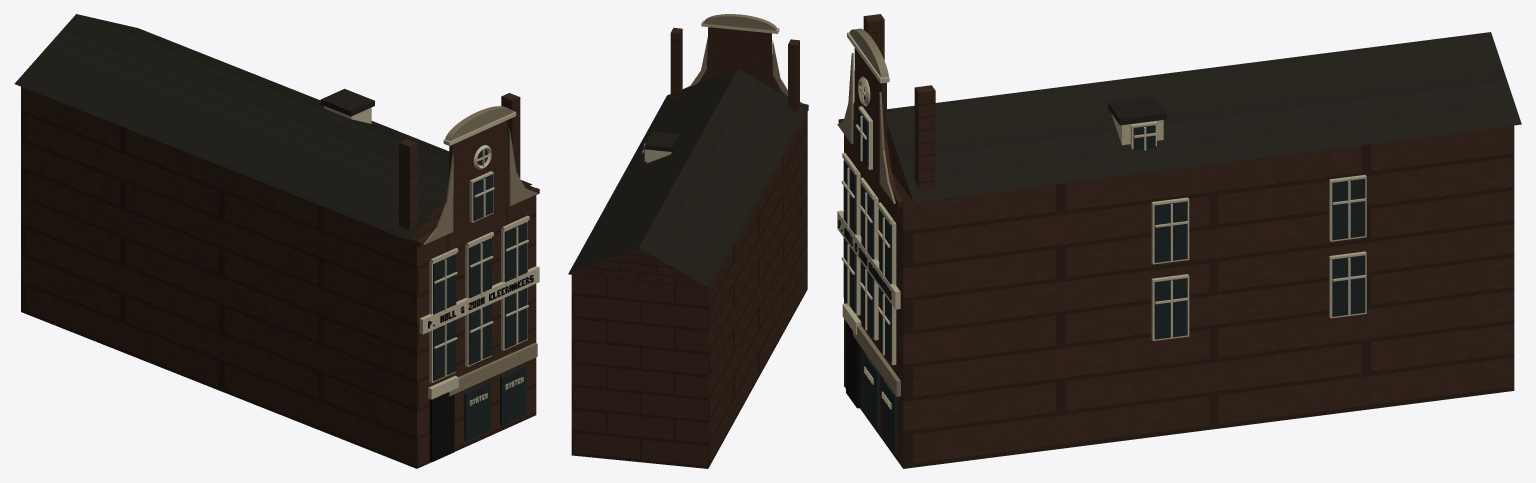
3 views of the same model, side by side, from view 1: azimuth 30°, elevation 25°; view 2: azimuth 150°, elevation 25°; view 3: azimuth 270°, elevation 25° (orthographic). The views are drawn at different scales.
Parts seen in each view (by area): view 1: wijnhaven145-moll-0, wijnhaven145-moll-1, wijnhaven145-moll-4, wijnhaven145-moll-2, wijnhaven145-moll-3, wijnhaven145-moll-5; view 2: wijnhaven145-moll-0, wijnhaven145-moll-1, wijnhaven145-moll-3, wijnhaven145-moll-2; view 3: wijnhaven145-moll-0, wijnhaven145-moll-1, wijnhaven145-moll-4, wijnhaven145-moll-2, wijnhaven145-moll-3, wijnhaven145-moll-5.
Boxes of the visible parts, x1,y1,x2,y2 form: wijnhaven145-moll-0: (21,87,539,468); wijnhaven145-moll-1: (14,14,530,239); wijnhaven145-moll-4: (433,149,527,441); wijnhaven145-moll-2: (324,106,539,405); wijnhaven145-moll-3: (423,106,538,396); wijnhaven145-moll-5: (428,274,533,461); wijnhaven145-moll-0: (568,27,808,468); wijnhaven145-moll-1: (568,68,808,287); wijnhaven145-moll-3: (683,14,802,103); wijnhaven145-moll-2: (642,20,779,163); wijnhaven145-moll-0: (838,14,1514,468); wijnhaven145-moll-1: (887,32,1521,201); wijnhaven145-moll-4: (843,87,1365,453); wijnhaven145-moll-2: (837,32,1366,409); wijnhaven145-moll-3: (837,28,900,396); wijnhaven145-moll-5: (838,219,891,408).
Bounding box in the file's own units: 14.23 × 15.7 × 25.11.
6 materials, 6 textured.
